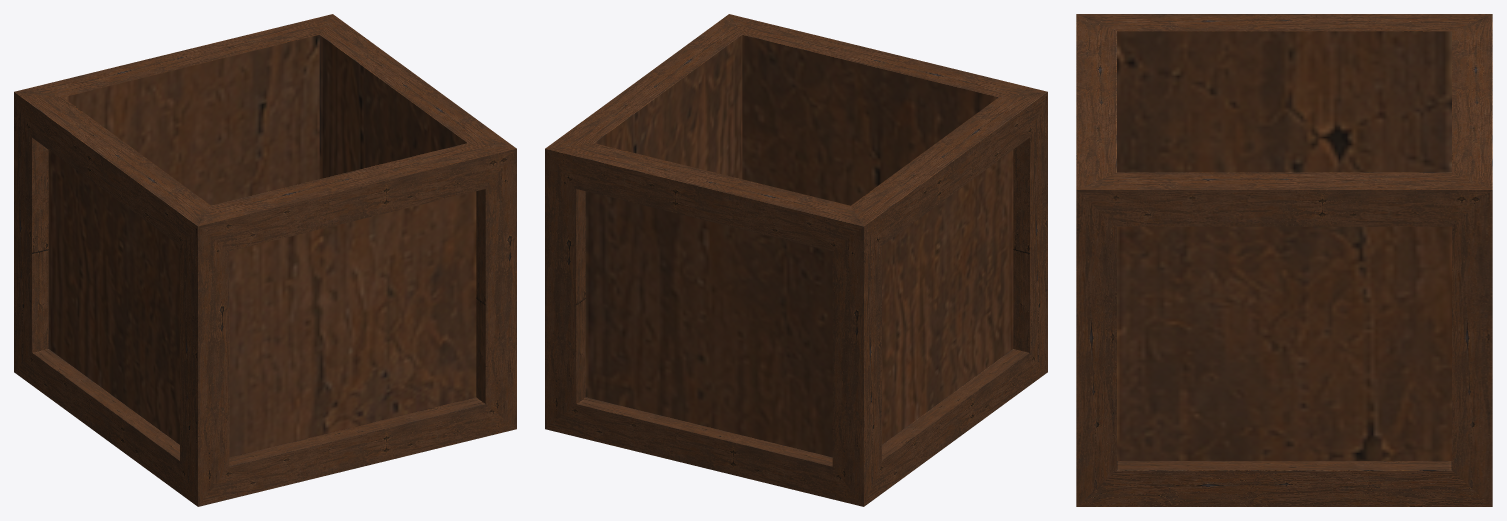
The model's file is Wood_Box_Empty.fbx.
3 renders of one model, left to right at view 1: azimuth 30°, elevation 25°; view 2: azimuth 150°, elevation 25°; view 3: azimuth 270°, elevation 25°, orthographic. The views are drawn at different scales.
Parts seen in each view (by area): view 1: Wood_Box_Empty; view 2: Wood_Box_Empty; view 3: Wood_Box_Empty.
Boxes of the visible parts, left/top/right/bottom form: Wood_Box_Empty: left=14, top=14, right=516, bottom=506; Wood_Box_Empty: left=545, top=14, right=1047, bottom=506; Wood_Box_Empty: left=1076, top=14, right=1492, bottom=506.
Size of the model in its own units: 57.17 by 48.05 by 57.17.
